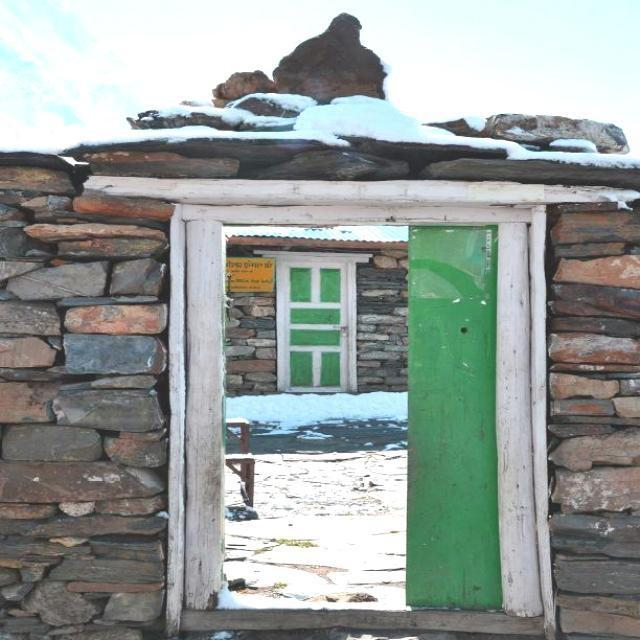door: (273, 244, 359, 398)
